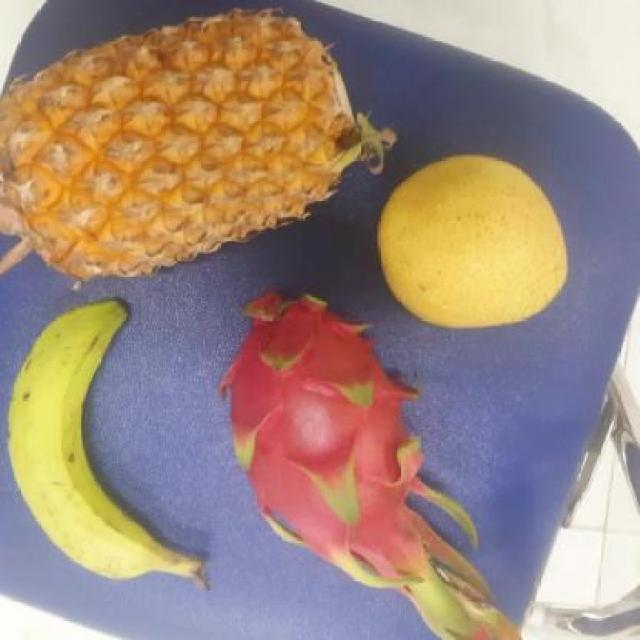banana: (2, 302, 200, 578)
dragon fruit: (212, 308, 436, 560)
pear: (372, 156, 570, 327)
pineapple: (0, 8, 362, 284)
